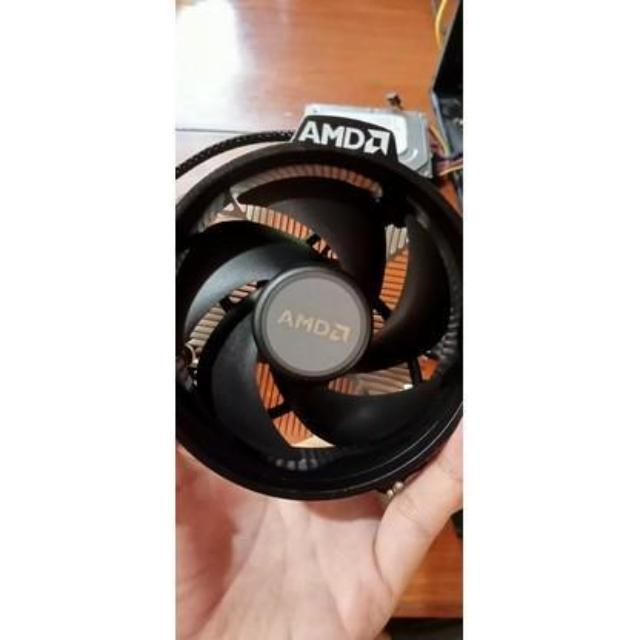CPU_Fan: (168, 116, 466, 482)
